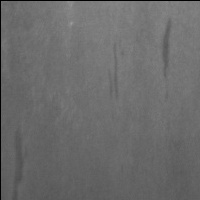inclusion: (8, 122, 29, 200), (155, 16, 176, 88), (104, 40, 125, 104)
